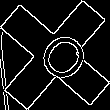O_SW: (22, 21, 88, 89)
